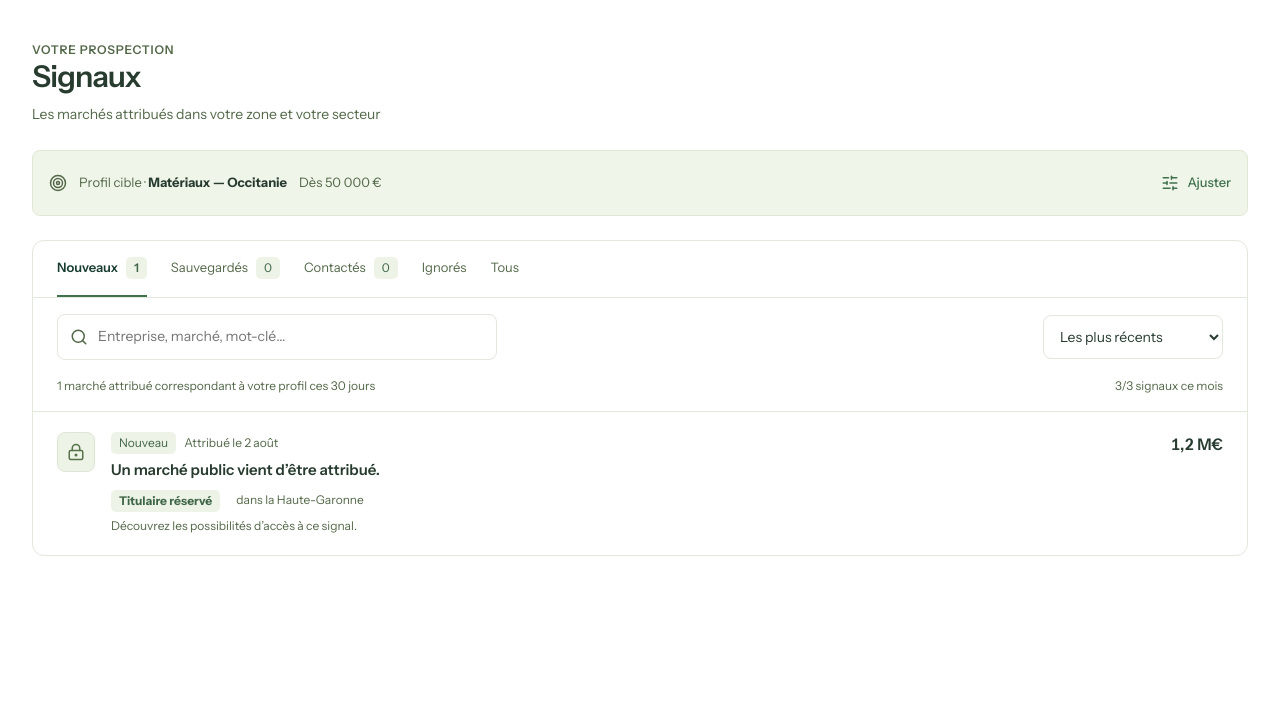
signal verrouillé sur un compte payant › reste vrai pour un compte Découverte
Click the button "Un marché public vient d’être attribué.". click: coordinates (245, 470)
box: [111, 458, 380, 482]
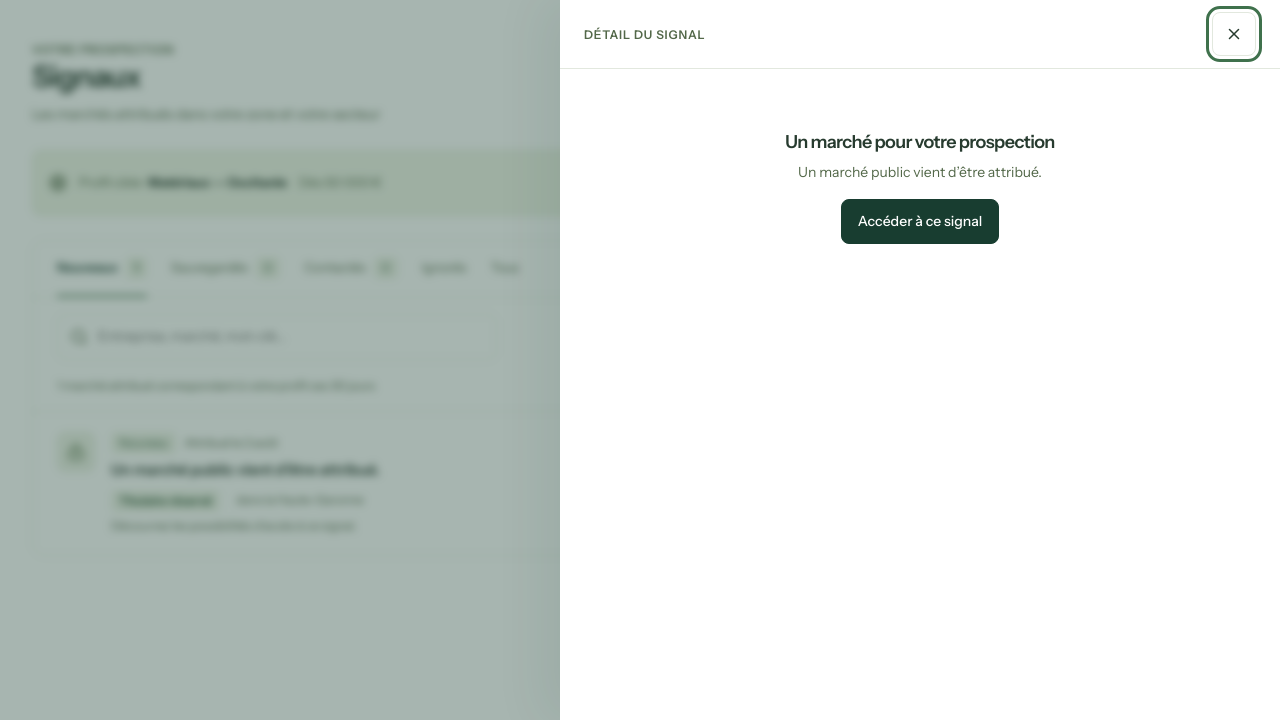
Click the button "Accéder à ce signal". click: coordinates (920, 221)
box: [841, 199, 999, 244]
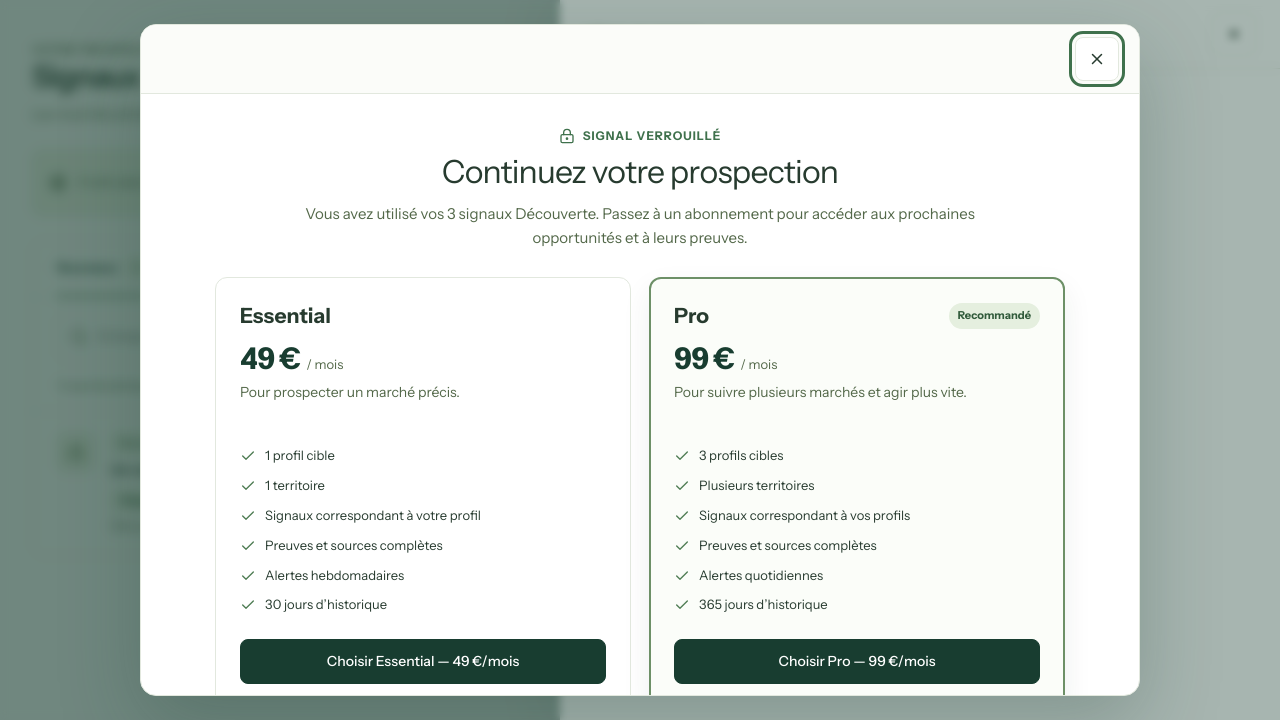
Expected: the heading "Continuez votre prospection" is shown, [442, 152, 838, 191]
Expected: the heading "Essential" is shown, [240, 302, 331, 329]
Expected: the heading "Pro" is shown, [674, 302, 709, 329]
